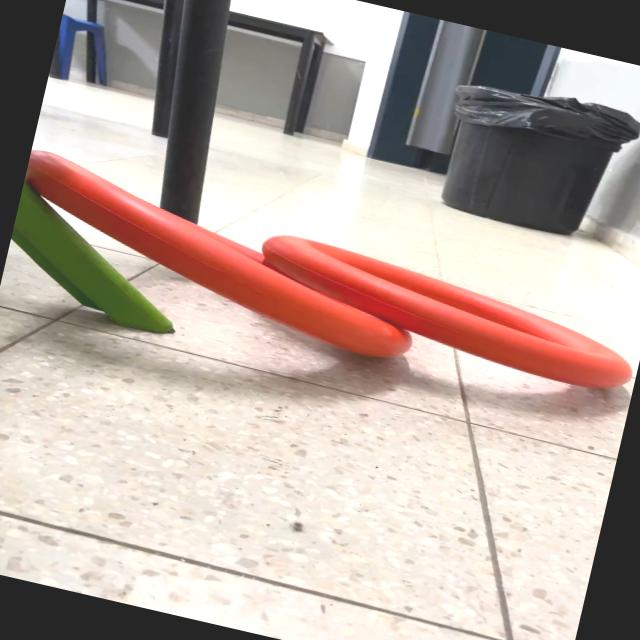note: (1, 146, 640, 432), (4, 146, 438, 370), (244, 226, 640, 399)
